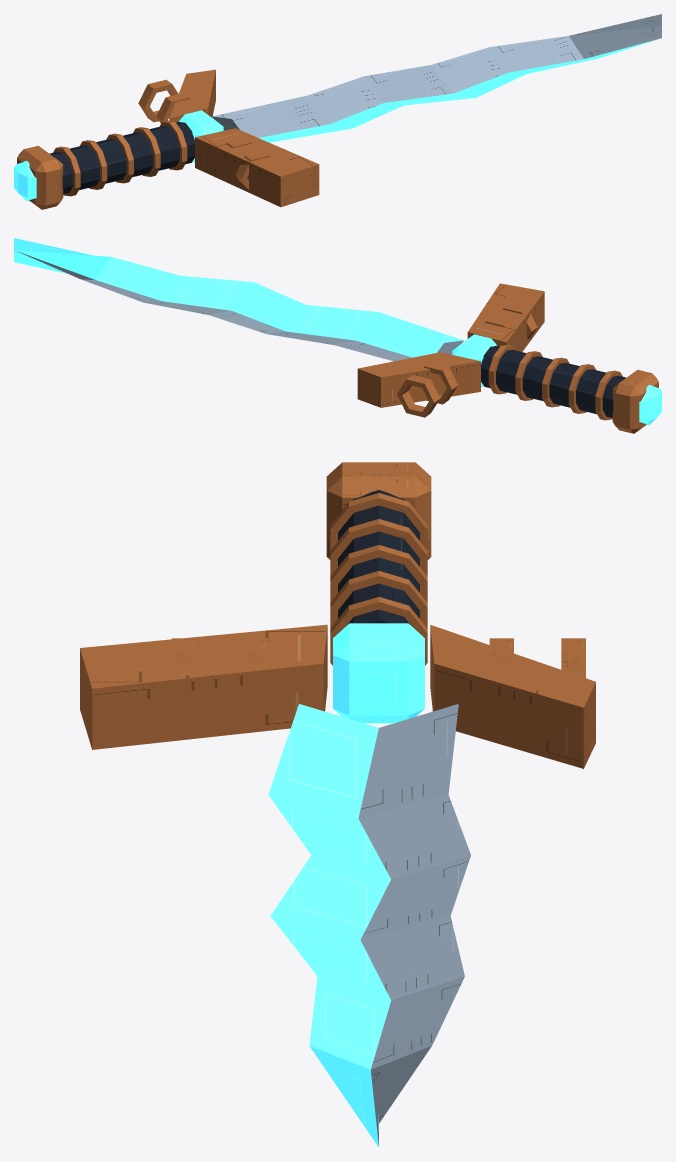
Rendered from voltedge.glb.
3 views of the same model, one above another, from view 1: azimuth 30°, elevation 25°; view 2: azimuth 150°, elevation 25°; view 3: azimuth 270°, elevation 25° (orthographic). The views are drawn at different scales.
Visible parts, largest first — view 1: blade, guard, grip; view 2: blade, guard, grip; view 3: blade, guard, grip.
Part boxes in pixels (x1,y1,x2,y2): blade: (212,14,661,142); guard: (138,69,319,207); grip: (14,120,194,209); blade: (14,238,463,361); guard: (357,283,544,417); grip: (481,344,661,433); blade: (268,704,470,1147); guard: (80,623,595,768); grip: (326,462,431,665).
Bounding box in the file's own units: 0.7255 × 0.051 × 0.252.
Materials: 4 (4 with a texture image).
